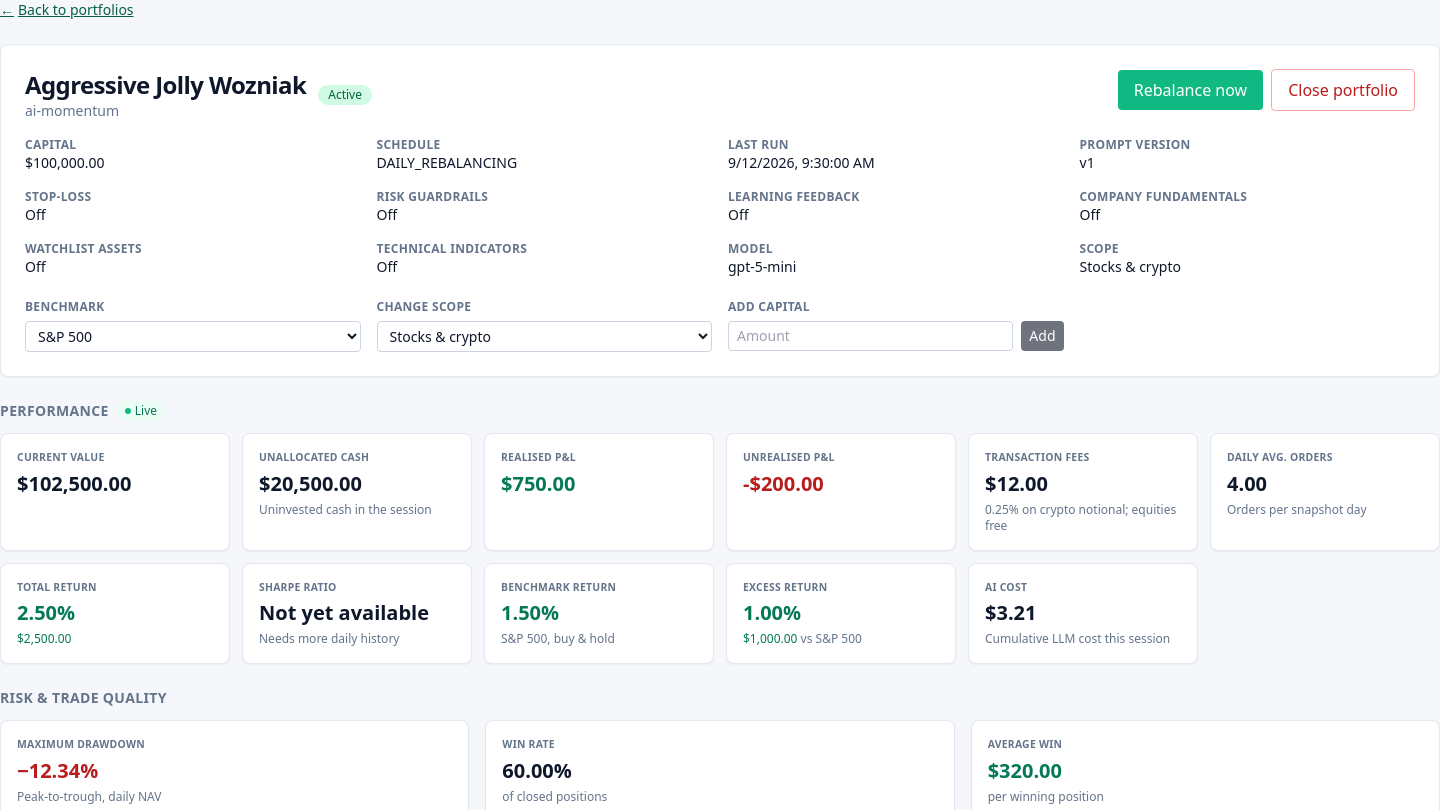
Test case: PaperTradingSessionPage › cancels a liquidating narrowing when the warning is declined
Select "Stocks only" in the dropdown labelled "Change scope" at (544, 336), box [376,321,712,352]
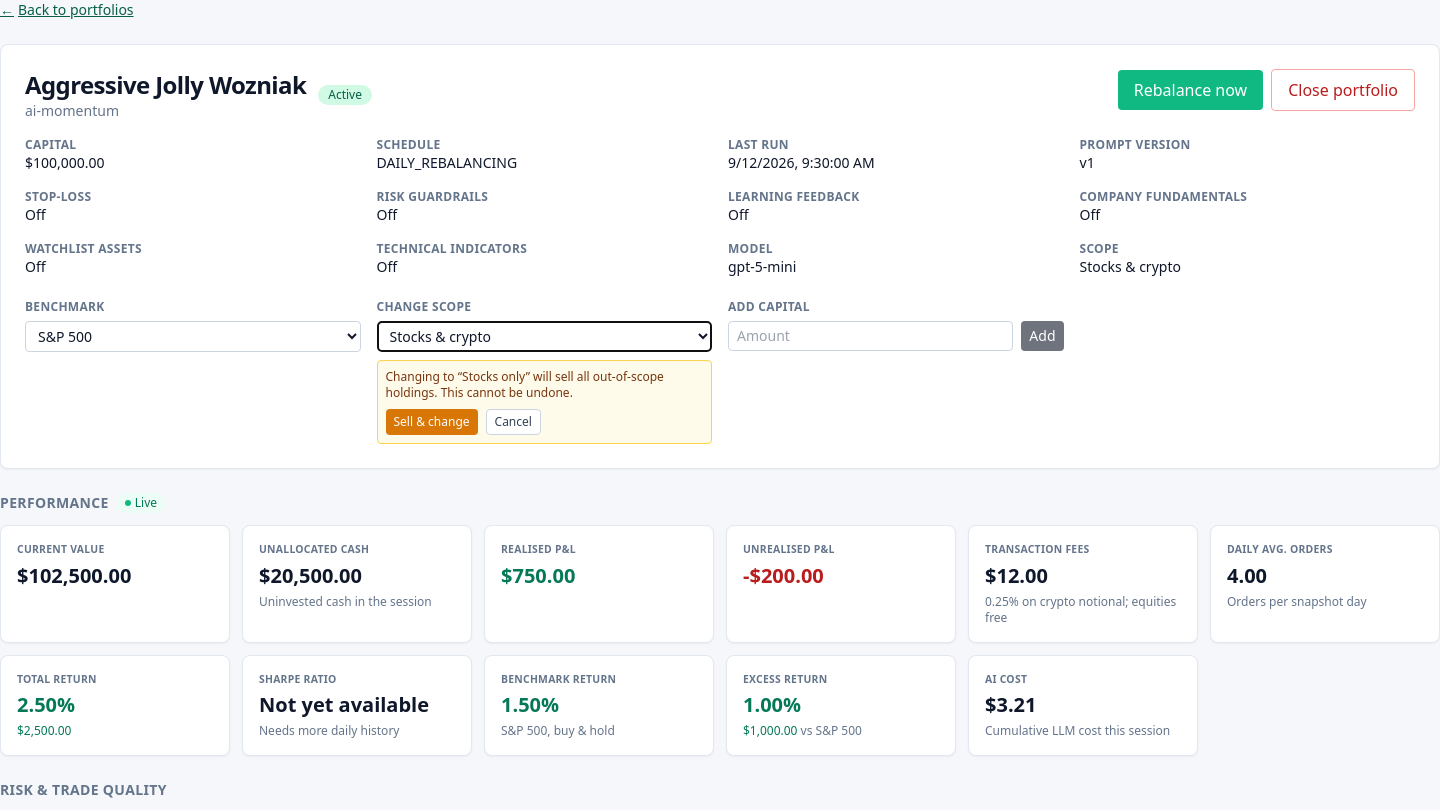
Result: the dialog is shown at [376,360,712,444]
Click the button "Cancel" at (513, 422), box [486,409,541,435]
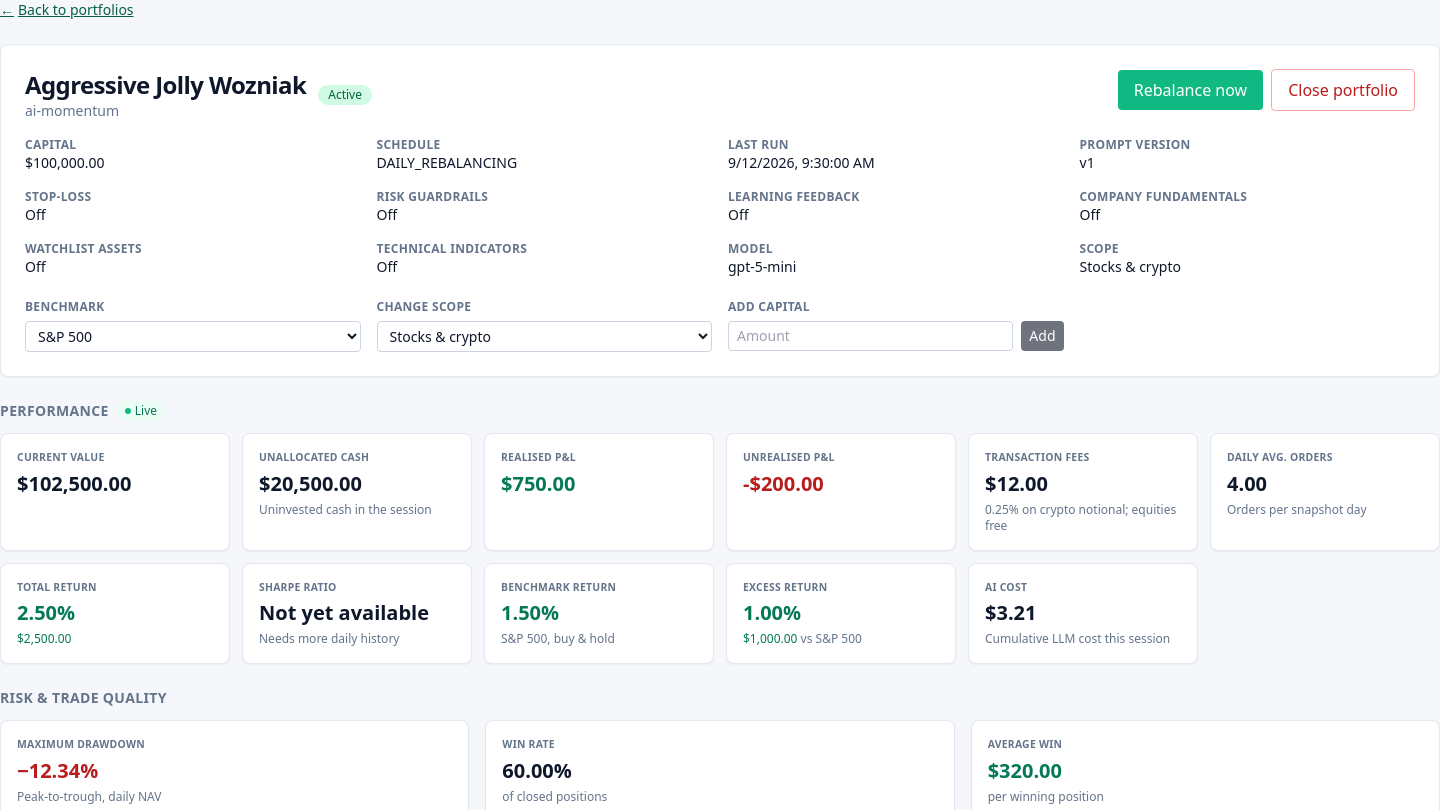
Result: the dialog is gone
